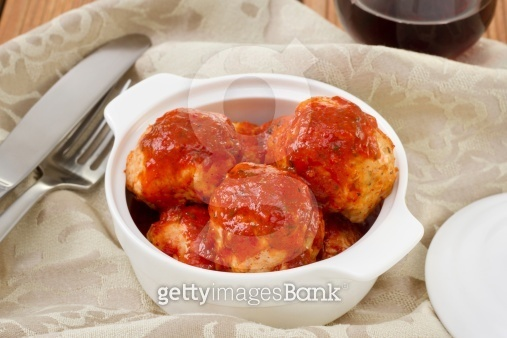meatballs: (284, 101, 404, 224), (207, 160, 322, 275), (112, 111, 251, 204)
